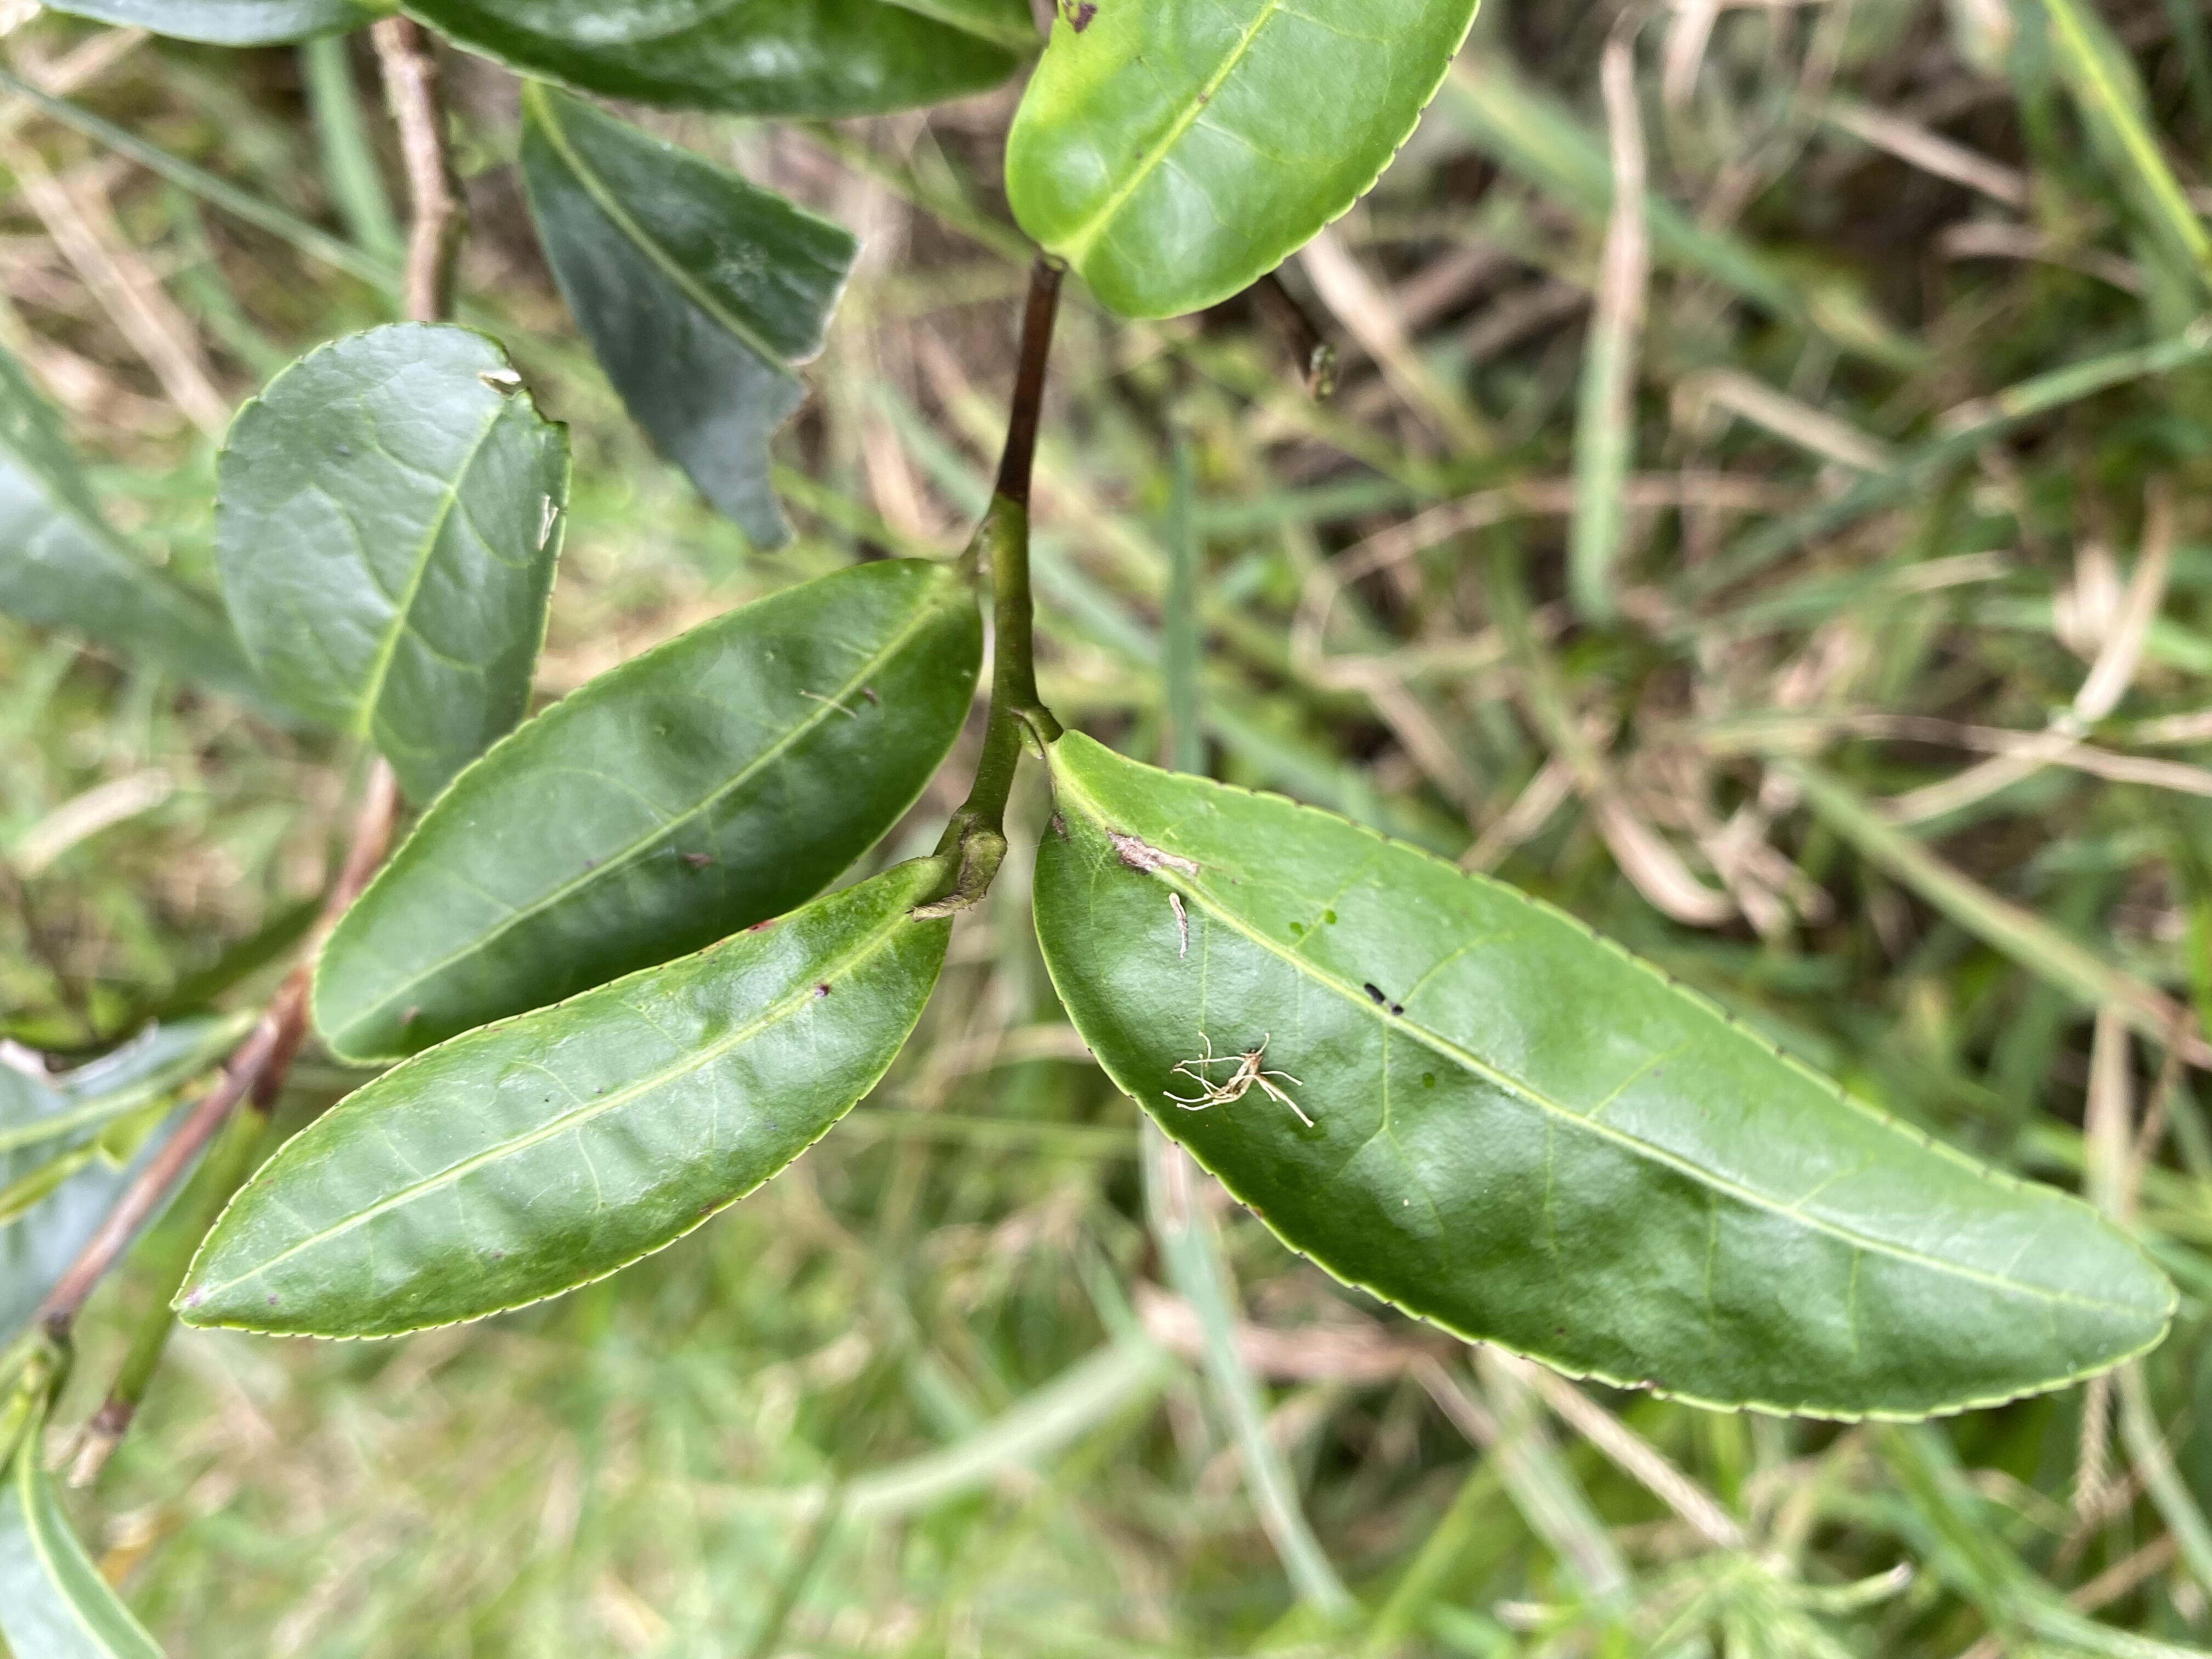chihuo_high: (519, 87, 859, 556)
tanju_low: (1033, 728, 2179, 1424), (1001, 2, 1477, 317)
